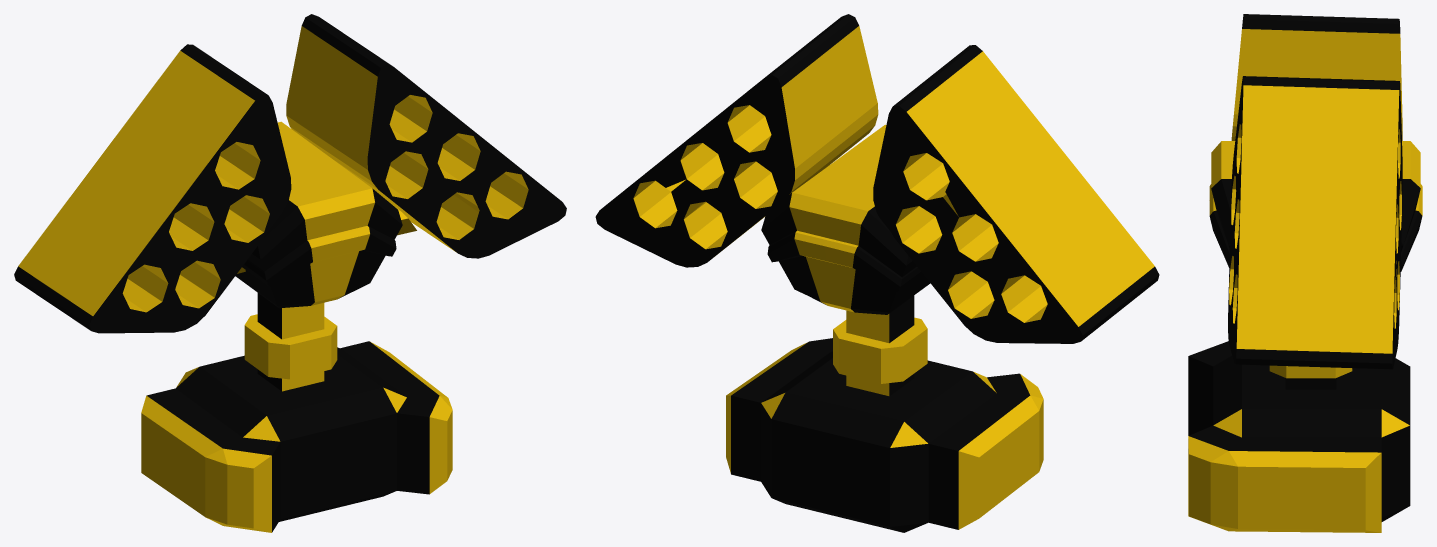
File: lanzacohetes.fbx
The picture shows the model from 3 angles, left to right: view 1: azimuth 30°, elevation 25°; view 2: azimuth 150°, elevation 25°; view 3: azimuth 270°, elevation 25°; orthographic projection. The views are drawn at different scales.
Visible parts, largest first — view 1: parte_arriba, parte_abajo.001; view 2: parte_arriba, parte_abajo.001; view 3: parte_arriba, parte_abajo.001.
Part boxes in pixels (<box>): parte_arriba: <box>14,14,566,333</box>; parte_abajo.001: <box>141,293,452,532</box>; parte_arriba: <box>595,14,1159,343</box>; parte_abajo.001: <box>726,295,1043,532</box>; parte_arriba: <box>1209,14,1422,369</box>; parte_abajo.001: <box>1188,341,1410,532</box>.
Bounding box in the file's own units: 735 × 633 × 300.
